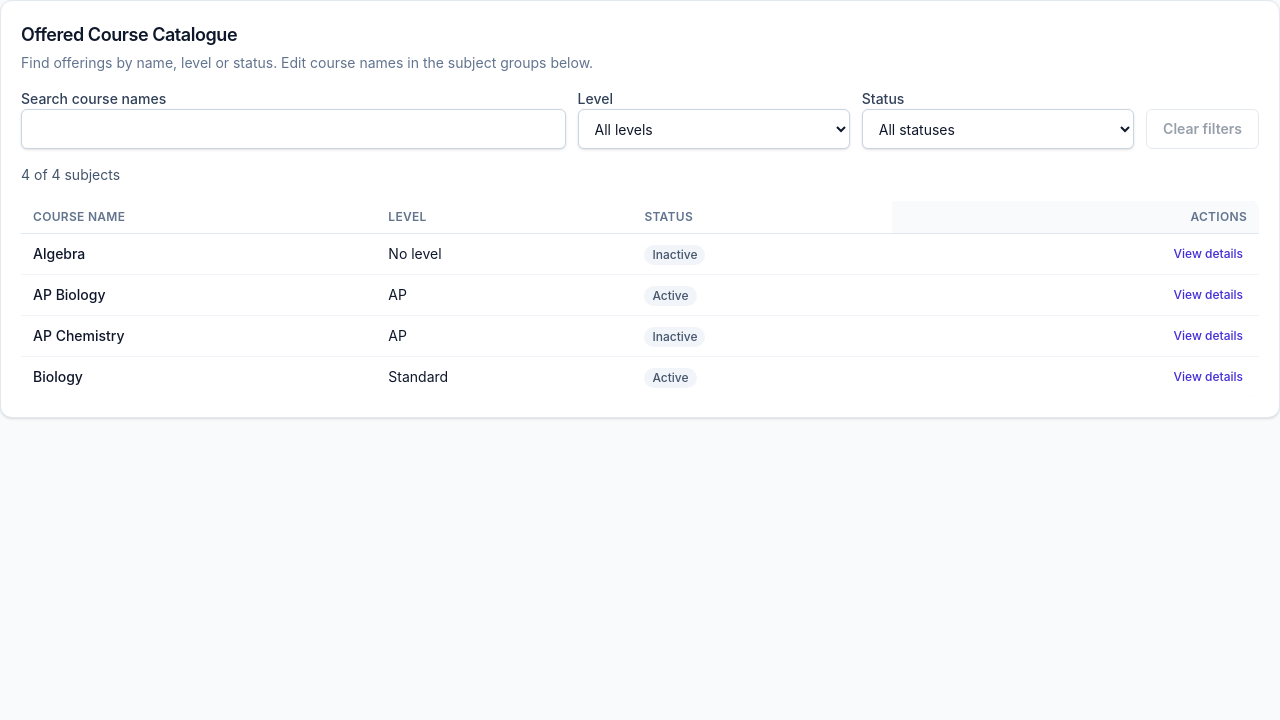
Scenario: opens read-only catalogue details without enabling batch changes
What coordinates should you click on to do the following:
click the button with aria-label "View details: AP Biology"
I would click on:
 (1208, 295)
Its box is top-left (1170, 283), bottom-right (1247, 307).
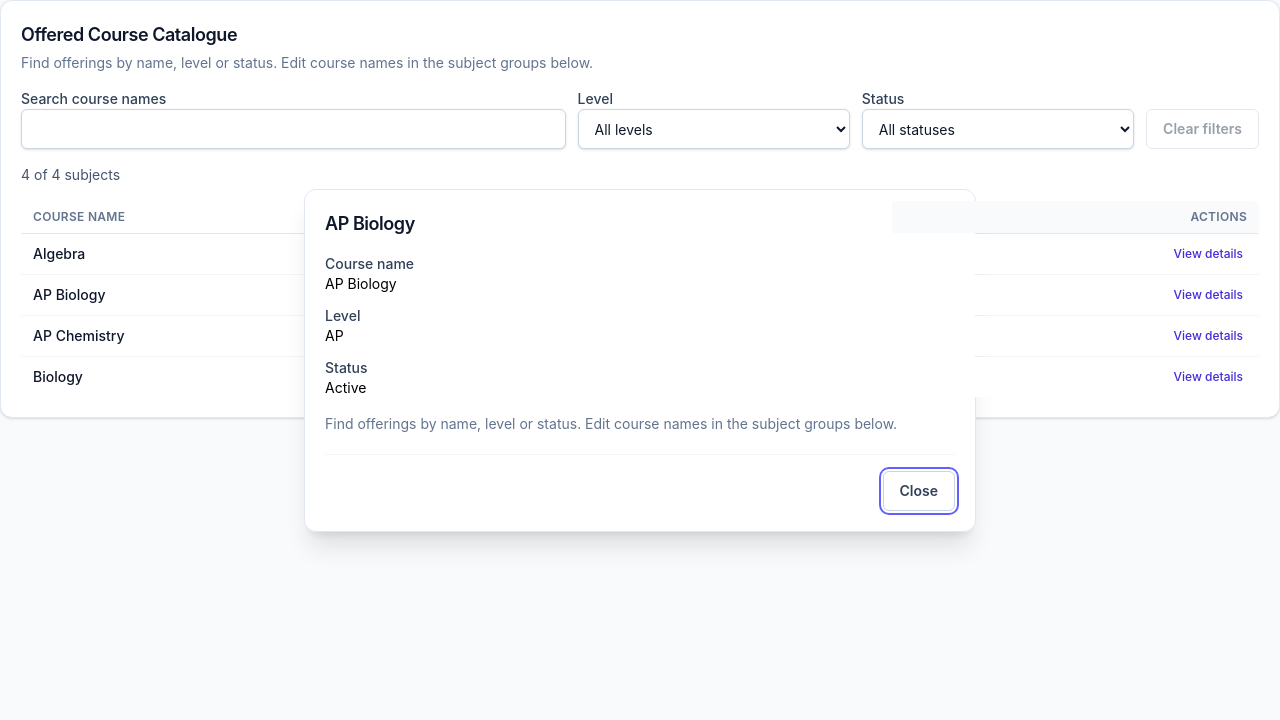
expect the dialog "AP Biology" is shown: met, box top-left (304, 188), bottom-right (976, 532)
